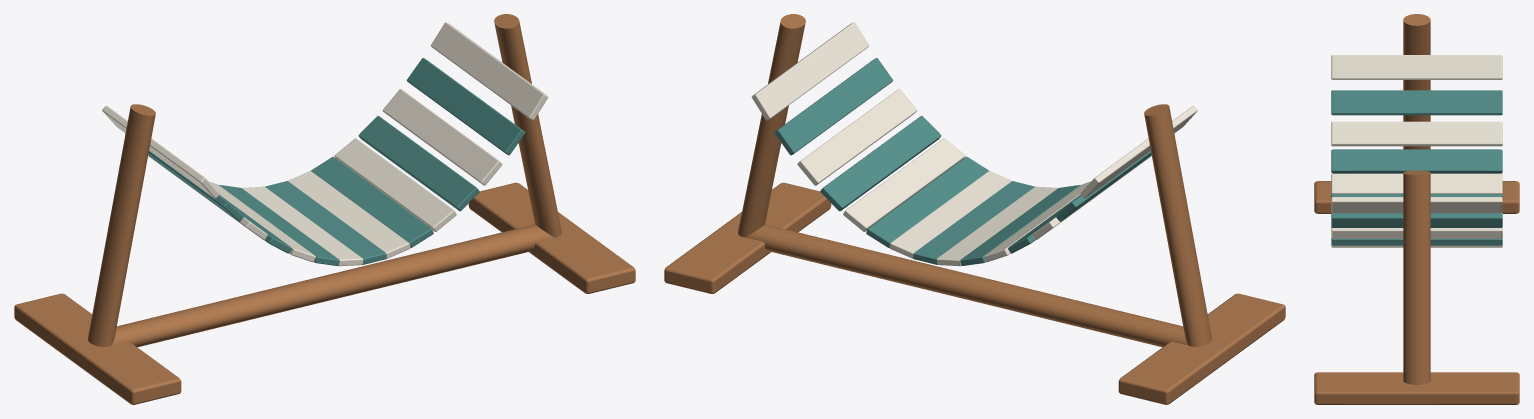
Rendered from wp-hamac-sur-support.glb.
3 renders of one model, left to right at view 1: azimuth 30°, elevation 25°; view 2: azimuth 150°, elevation 25°; view 3: azimuth 270°, elevation 25°, orthographic. The views are drawn at different scales.
Visible parts, largest first — view 1: wp-hamac-sur-support; view 2: wp-hamac-sur-support; view 3: wp-hamac-sur-support.
Boxes of the visible parts, <box> form: wp-hamac-sur-support: <box>14,14,635,404</box>; wp-hamac-sur-support: <box>664,14,1285,404</box>; wp-hamac-sur-support: <box>1314,14,1519,404</box>.
Size of the model in its own units: 2.2 by 1 by 0.9.
